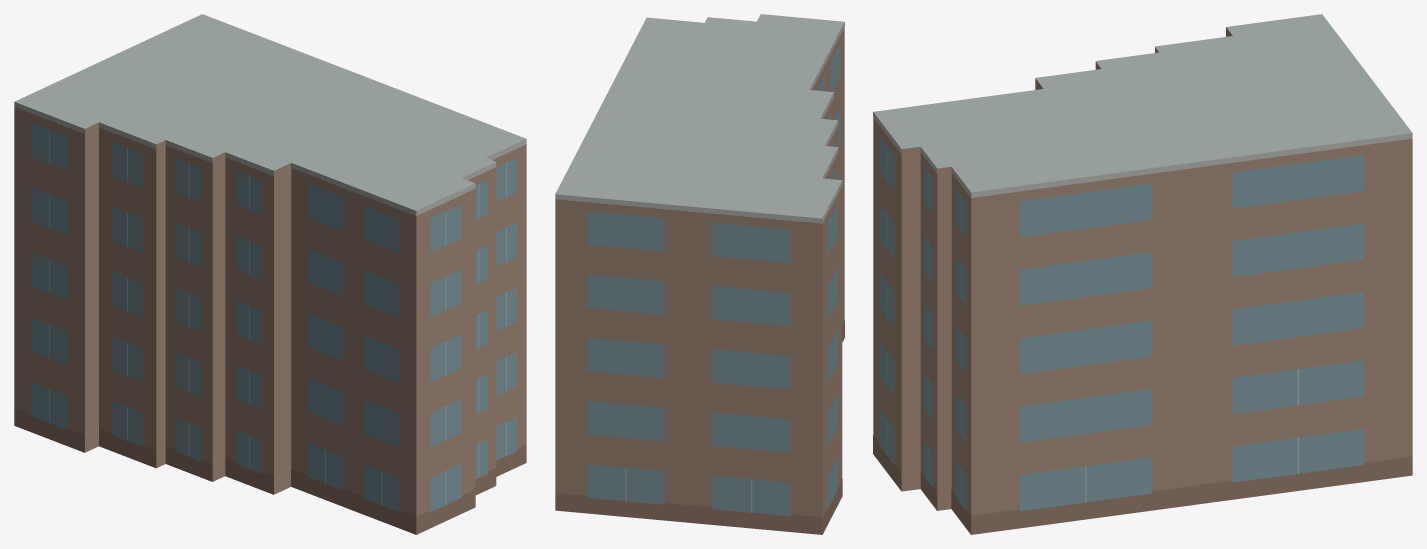
The model's file is survey-upis-32993499.glb.
3 renders of one model, left to right at view 1: azimuth 30°, elevation 25°; view 2: azimuth 150°, elevation 25°; view 3: azimuth 270°, elevation 25°, orthographic. The views are drawn at different scales.
Parts seen in each view (by area): view 1: survey-upis-32993499.tmp; view 2: survey-upis-32993499.tmp; view 3: survey-upis-32993499.tmp.
Boxes of the visible parts, x1,y1,x2,y2 form: survey-upis-32993499.tmp: (14, 14, 526, 534); survey-upis-32993499.tmp: (555, 14, 844, 534); survey-upis-32993499.tmp: (873, 14, 1412, 534).
Size of the model in its own units: 17.07 by 15.25 by 21.79.
